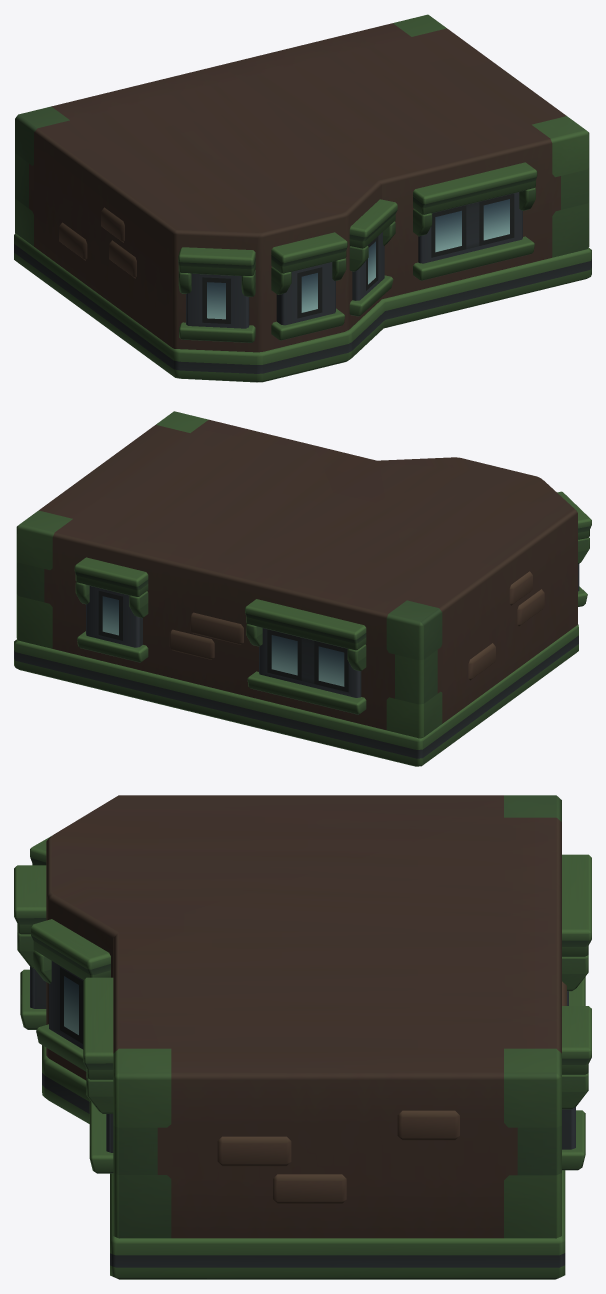
The model's file is apartment_type2_element_brown.fbx.
3 views of the same model, one above another, from view 1: azimuth 30°, elevation 25°; view 2: azimuth 150°, elevation 25°; view 3: azimuth 270°, elevation 25° (orthographic). The views are drawn at different scales.
Parts seen in each view (by area): view 1: apartment_type2_element_brown; view 2: apartment_type2_element_brown; view 3: apartment_type2_element_brown.
Boxes of the visible parts, box(x1,y1,x2,y2) form: apartment_type2_element_brown: box(14, 14, 591, 382); apartment_type2_element_brown: box(14, 411, 591, 766); apartment_type2_element_brown: box(14, 795, 591, 1279).
Bounding box in the file's own units: 1225 × 409 × 1043.
